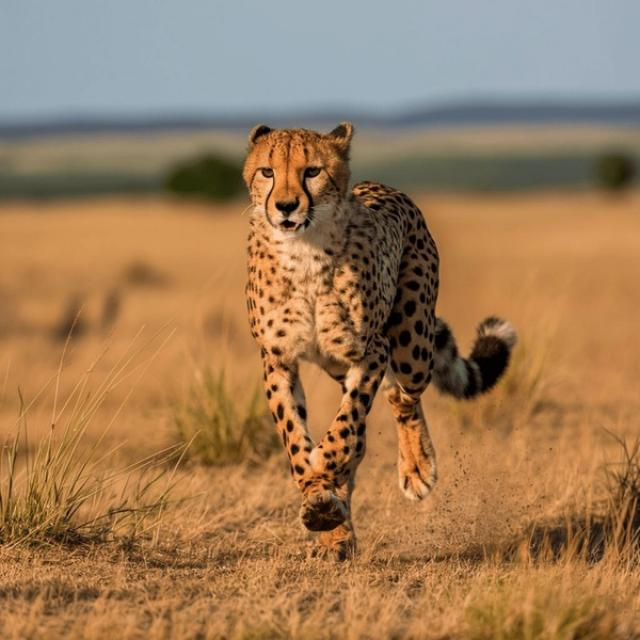Cheetah: (238, 113, 520, 555)
